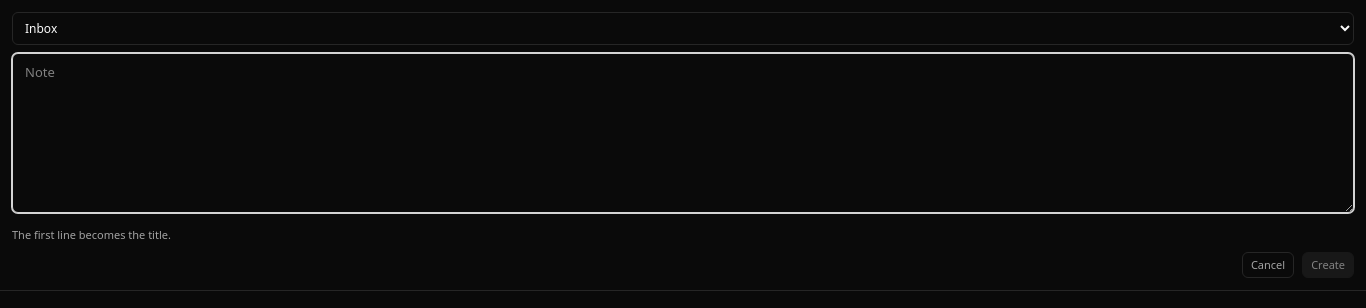
Scenario: NoteComposer › cannot be filed twice while the first create is in flight
The image size is (1366, 308).
Type "Once" into the text box labelled "Note" at {"x": 683, "y": 133}, box [12,53,1354,213]
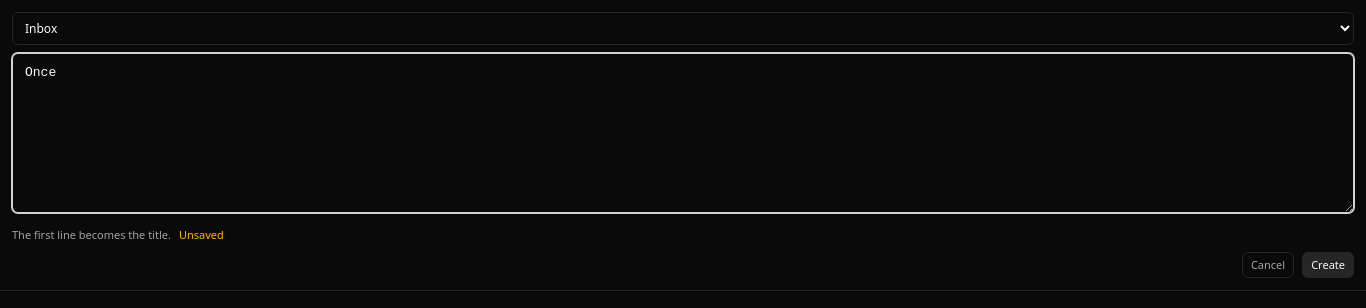
Click the button "Create" at {"x": 1328, "y": 265}, box [1302,252,1354,278]
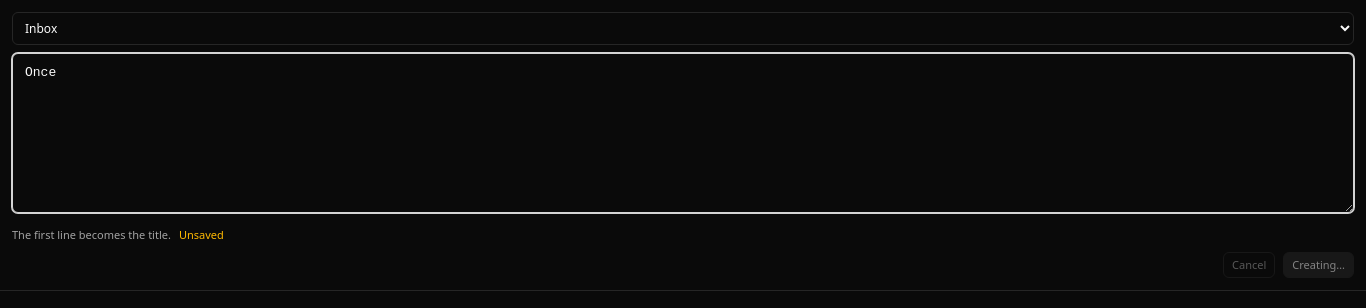
Click the button "Creating…" at {"x": 1319, "y": 265}, box [1283,252,1354,278]
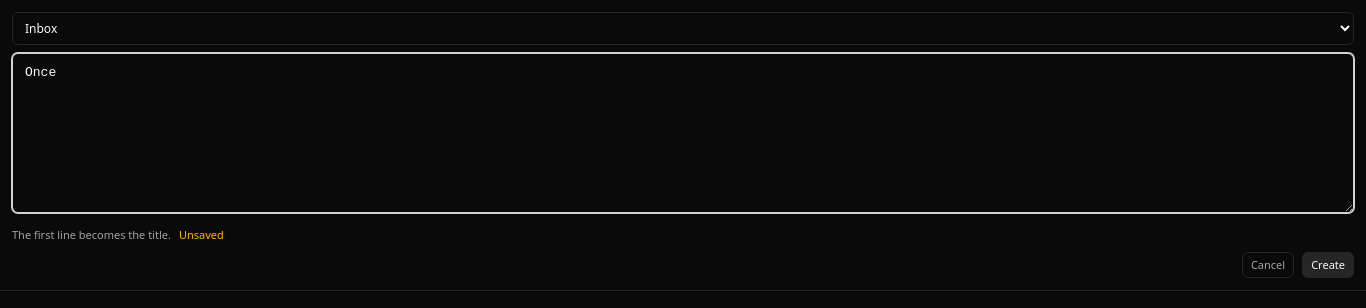
expect the button "Create" is shown: met, box [1302,252,1354,278]
